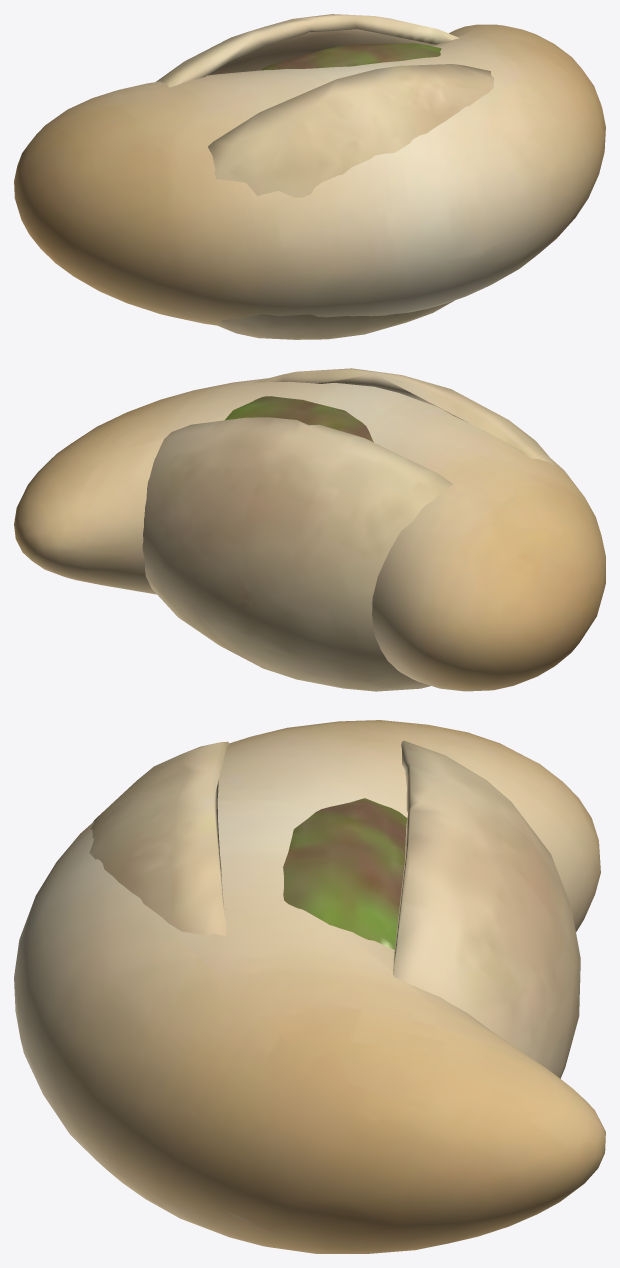
File: nuts.glb
3 views of the same model, one above another, from view 1: azimuth 30°, elevation 25°; view 2: azimuth 150°, elevation 25°; view 3: azimuth 270°, elevation 25° (orthographic). The views are drawn at different scales.
Parts seen in each view (by area): view 1: cashew, pistachio; view 2: cashew, pistachio; view 3: cashew, pistachio.
Boxes of the visible parts, x1,y1,x2,y2 form: cashew: (14, 24, 605, 325); pistachio: (156, 14, 494, 339); cashew: (14, 378, 605, 691); pistachio: (142, 368, 554, 691); cashew: (14, 720, 605, 1253); pistachio: (89, 740, 580, 1078).
Bounding box in the file's own units: 2.52 × 1.16 × 1.61.
Materials: 4 (4 with a texture image).
